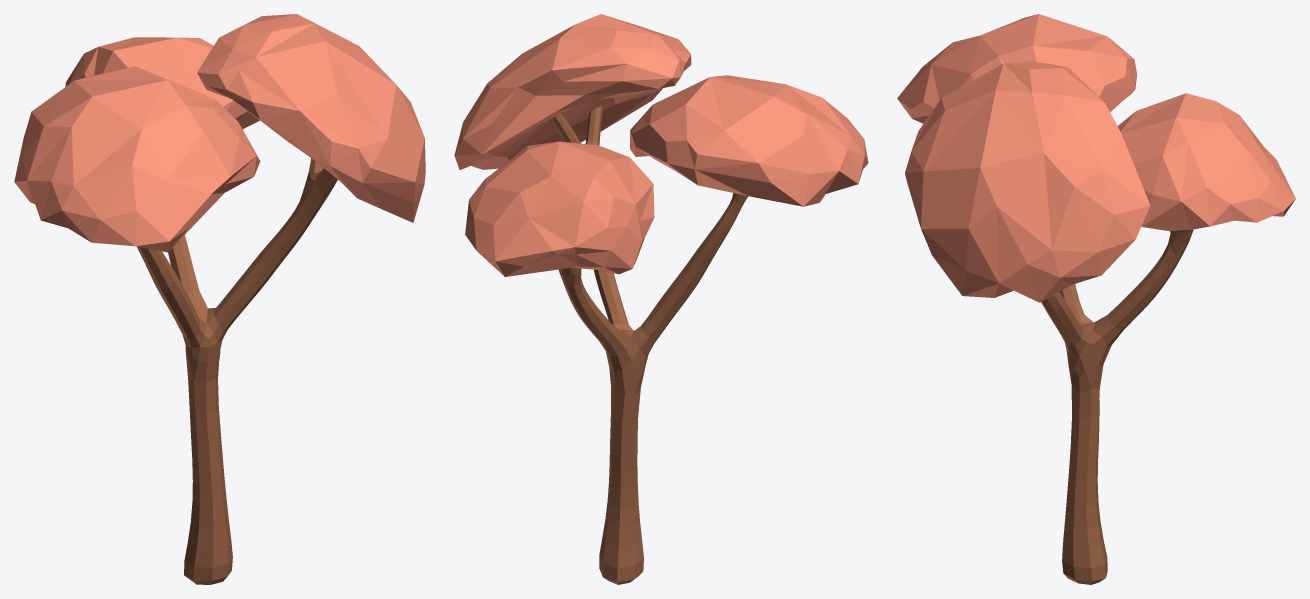
Rendered from arbolCerezoPequeño.glb.
3 renders of one model, left to right at view 1: azimuth 30°, elevation 25°; view 2: azimuth 150°, elevation 25°; view 3: azimuth 270°, elevation 25°, orthographic. The views are drawn at different scales.
Parts seen in each view (by area): view 1: Lowpolytree_5_green.001; view 2: Lowpolytree_5_green.001; view 3: Lowpolytree_5_green.001.
Part boxes in pixels (x1,y1,x2,y2): Lowpolytree_5_green.001: (14, 14, 425, 584); Lowpolytree_5_green.001: (454, 14, 868, 584); Lowpolytree_5_green.001: (897, 14, 1295, 584).
Bounding box in the file's own units: 6.18 × 8.51 × 5.84.
1 material, 1 textured.
